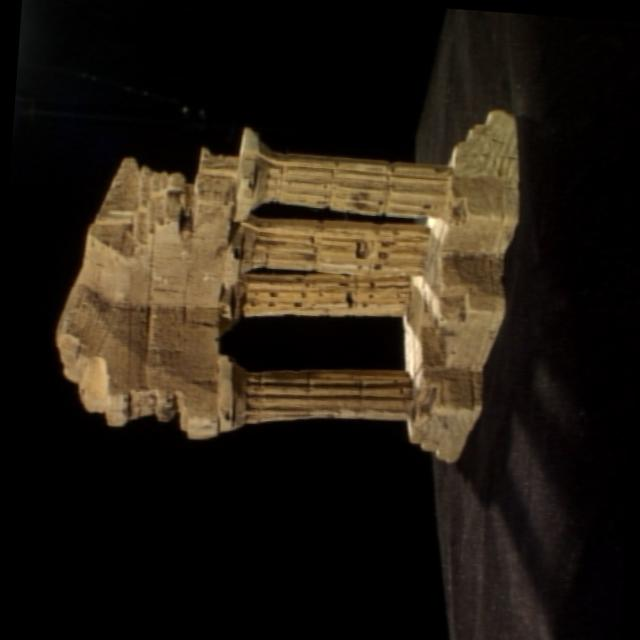Instance-Segmentation: (56, 110, 517, 460)
